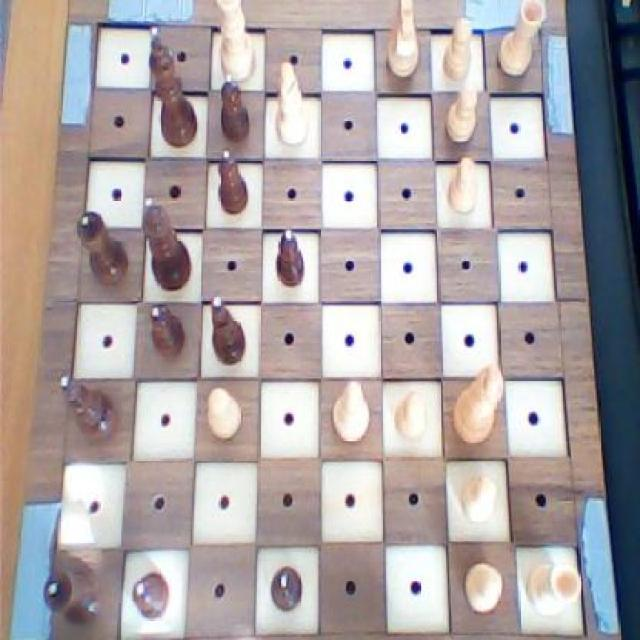bishop: (57, 372, 120, 450), (205, 287, 249, 368)
black-bishop: (144, 20, 202, 148)
black-knight: (269, 222, 310, 292), (215, 69, 252, 146), (214, 146, 251, 222), (128, 565, 174, 626), (146, 300, 189, 363), (264, 558, 304, 614)
black-pawn: (140, 192, 195, 294)
black-queen: (72, 205, 132, 292), (38, 556, 106, 632)
black-rook: (266, 57, 314, 151), (326, 376, 373, 448)
white-bishop: (449, 358, 508, 450)
white-king: (383, 0, 423, 85)
white-knight: (452, 466, 501, 530), (458, 558, 507, 620), (437, 15, 478, 86), (443, 80, 481, 151), (388, 383, 432, 444), (443, 154, 482, 221), (204, 382, 246, 443)
white-pawn: (211, 0, 262, 89)
white-queen: (494, 0, 545, 85), (522, 556, 586, 620)
